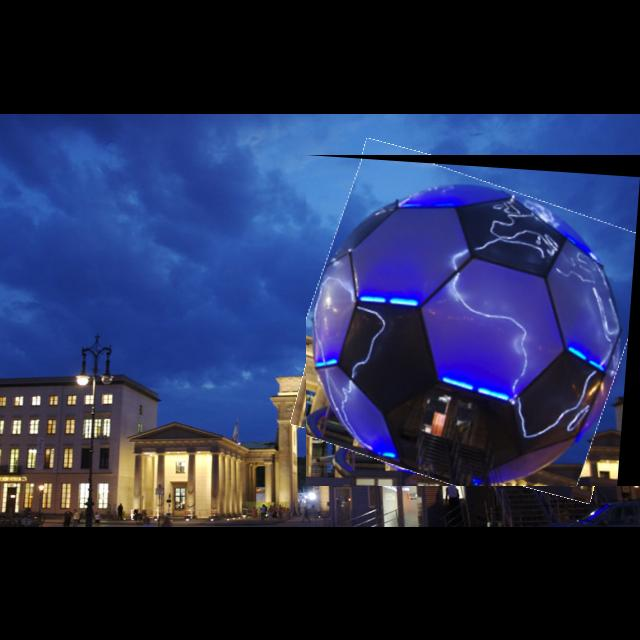Football: (306, 155, 640, 486)
